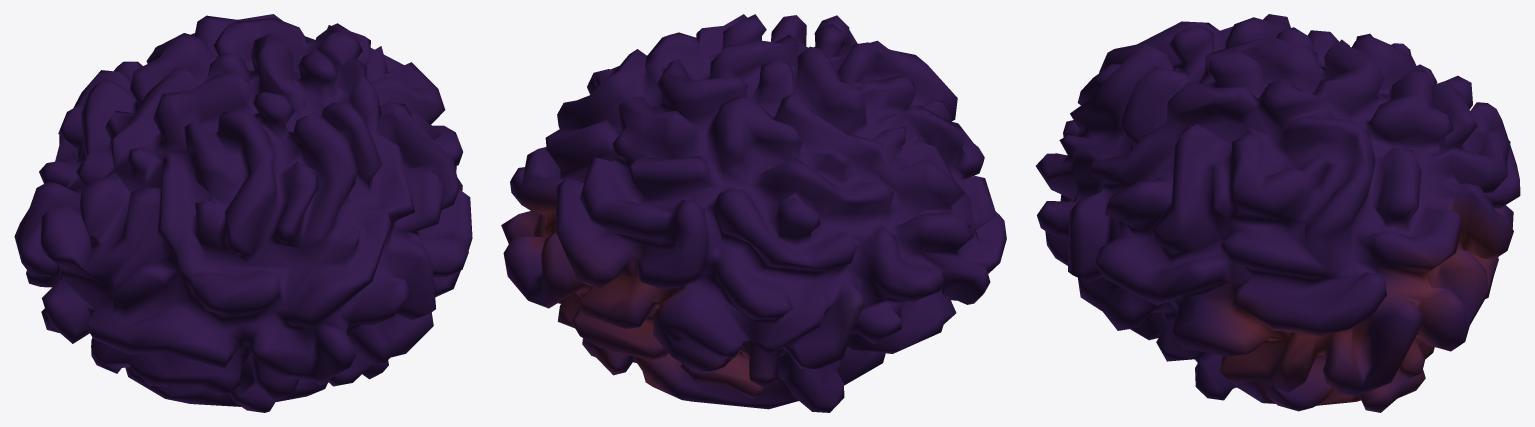
Rendered from Pocillopora.fbx.
3 renders of one model, left to right at view 1: azimuth 30°, elevation 25°; view 2: azimuth 150°, elevation 25°; view 3: azimuth 270°, elevation 25°, orthographic. The views are drawn at different scales.
Visible parts, largest first — view 1: Pocillopora; view 2: Pocillopora; view 3: Pocillopora.
Boxes of the visible parts, x1,y1,x2,y2 form: Pocillopora: (14, 14, 472, 412); Pocillopora: (501, 14, 1006, 412); Pocillopora: (1036, 14, 1520, 412).
Bounding box in the file's own units: 5.77 × 4.18 × 5.47.
